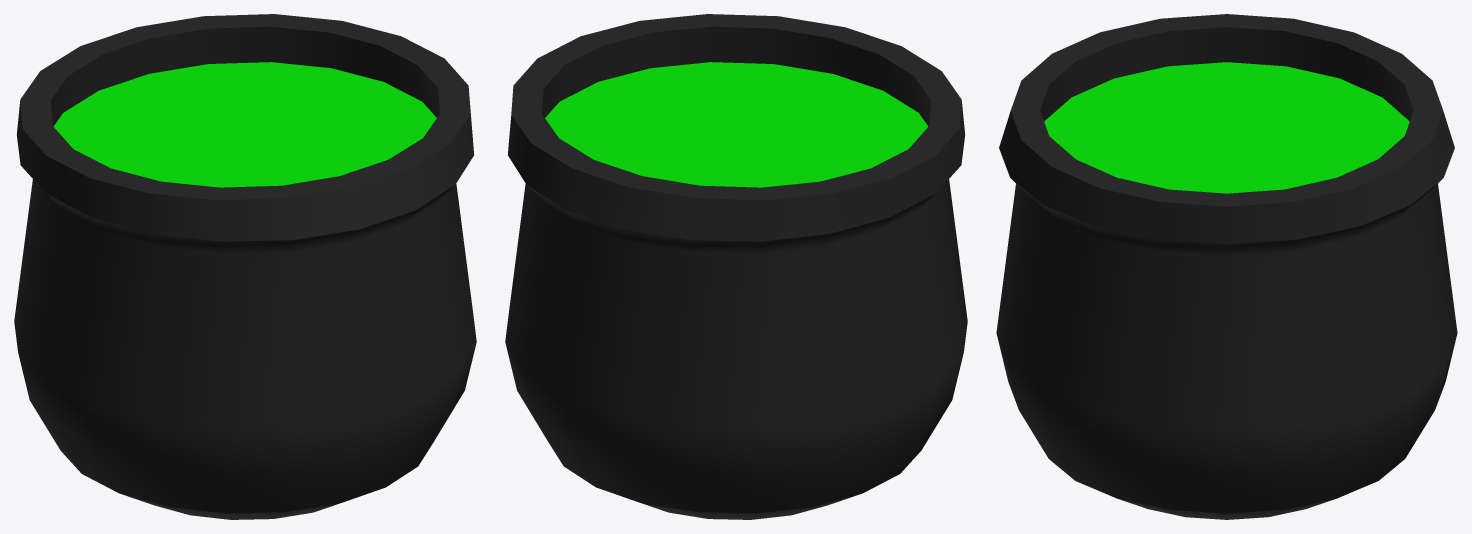
The model's file is Cauldron_old.fbx.
3 views of the same model, side by side, from view 1: azimuth 30°, elevation 25°; view 2: azimuth 150°, elevation 25°; view 3: azimuth 270°, elevation 25° (orthographic).
Visible parts, largest first — view 1: pCylinder15; view 2: pCylinder15; view 3: pCylinder15.
Part boxes in pixels (x1=…): pCylinder15: x1=14, y1=14, x2=476, y2=519; pCylinder15: x1=505, y1=14, x2=967, y2=519; pCylinder15: x1=996, y1=14, x2=1457, y2=519.
Bounding box in the file's own units: 0.2628 × 0.2218 × 0.2628.
